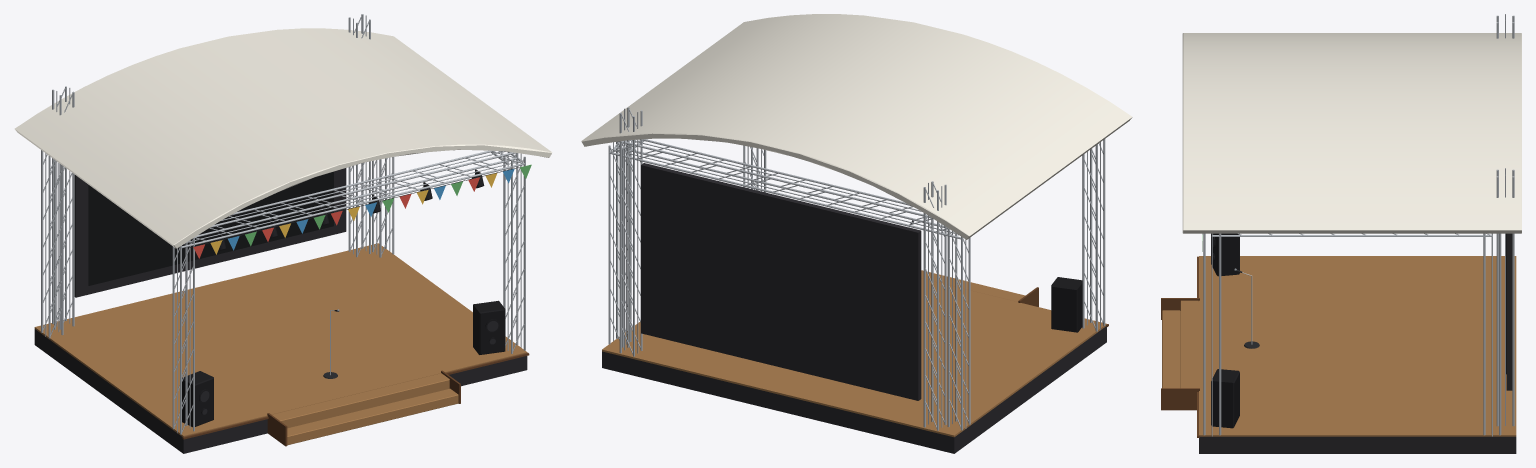
The model's file is stage.glb.
3 views of the same model, side by side, from view 1: azimuth 30°, elevation 25°; view 2: azimuth 150°, elevation 25°; view 3: azimuth 270°, elevation 25° (orthographic). The views are drawn at different scales.
Parts seen in each view (by area): view 1: roof139, boards1, screen8, skirt0, skirt7, boards4, boards3, speaker181, speaker173, truss89, truss87, truss90 (+6 smaller); view 2: roof139, skirt7, boards1, skirt0, speaker173, truss103, truss101, truss102, truss100, boards4, truss25, truss12 (+8 smaller); view 3: roof139, boards1, skirt0, boards4, boards3, speaker181, skirt7, speaker173, woodDark6, truss25, truss24, truss50 (+4 smaller).
Part boxes in pixels (x1,y1,x2,y2): roof139: (14, 28, 552, 248); boards1: (34, 243, 527, 436); screen8: (88, 171, 333, 285); skirt0: (34, 329, 527, 453); skirt7: (74, 168, 346, 297); boards4: (272, 373, 449, 428); boards3: (287, 388, 458, 445); speaker181: (473, 300, 505, 354); speaker173: (182, 371, 213, 427); truss89: (182, 163, 524, 248); truss87: (209, 152, 516, 228); truss90: (195, 157, 516, 237); roof139: (581, 14, 1132, 239); skirt7: (641, 163, 921, 400); boards1: (602, 278, 1106, 437); skirt0: (602, 326, 1106, 453); speaker173: (1051, 277, 1082, 332); truss103: (609, 152, 960, 239); truss101: (617, 141, 932, 218); truss102: (617, 146, 947, 227); truss100: (640, 139, 911, 206); boards4: (921, 270, 1025, 301); truss25: (619, 112, 621, 353); truss12: (923, 187, 925, 427); roof139: (1182, 33, 1521, 233); boards1: (1199, 256, 1516, 436); skirt0: (1199, 436, 1516, 453); boards4: (1180, 300, 1198, 388); boards3: (1162, 310, 1180, 388); speaker181: (1211, 369, 1239, 428); skirt7: (1506, 233, 1512, 390); speaker173: (1211, 233, 1239, 276); woodDark6: (1161, 388, 1199, 410); truss25: (1512, 176, 1514, 426); truss24: (1496, 176, 1498, 426); truss50: (1203, 233, 1205, 435).
Size of the model in its own units: 8.83 by 5.76 by 6.83.
